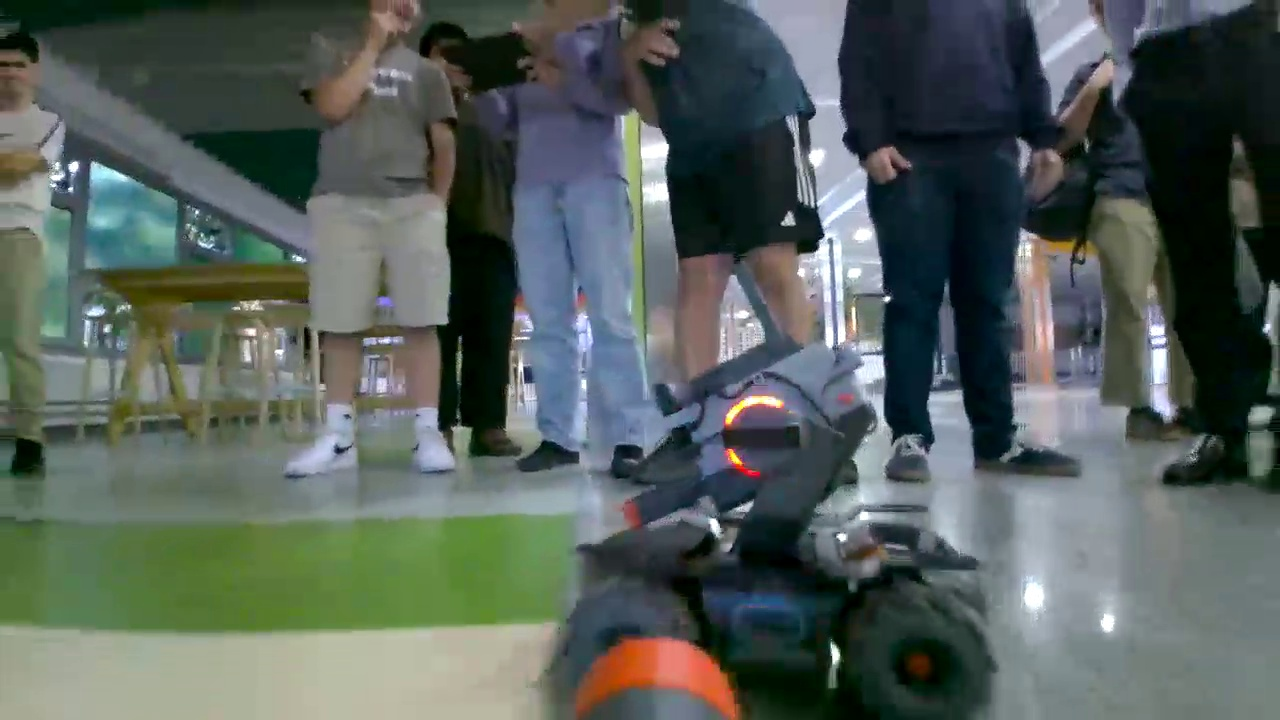robot: (537, 329, 1002, 720)
